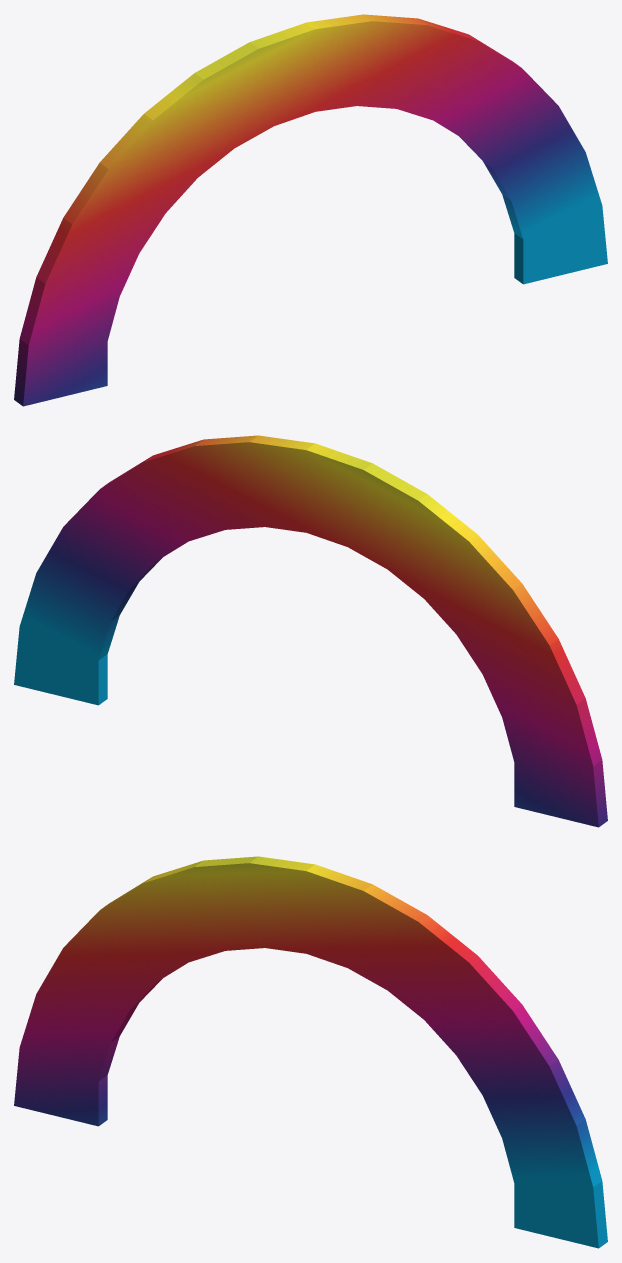
The model's file is goal.obj.
3 renders of one model, top to bottom at view 1: azimuth 30°, elevation 25°; view 2: azimuth 150°, elevation 25°; view 3: azimuth 330°, elevation 25°, orthographic.
Parts seen in each view (by area): view 1: Circle_Circle.001; view 2: Circle_Circle.001; view 3: Circle_Circle.001.
Part boxes in pixels (x1,y1,x2,y2): Circle_Circle.001: (14,14,607,406); Circle_Circle.001: (14,435,607,827); Circle_Circle.001: (14,856,607,1248).
Bounding box in the file's own units: 57.88 × 28.94 × 1.57.
